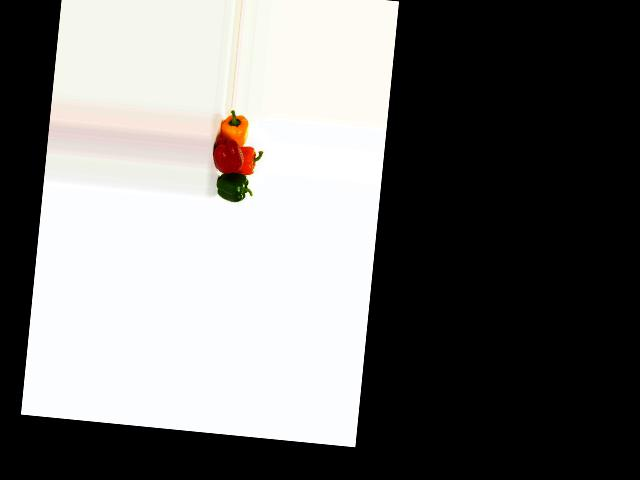bell_pepper: (210, 168, 252, 203)
